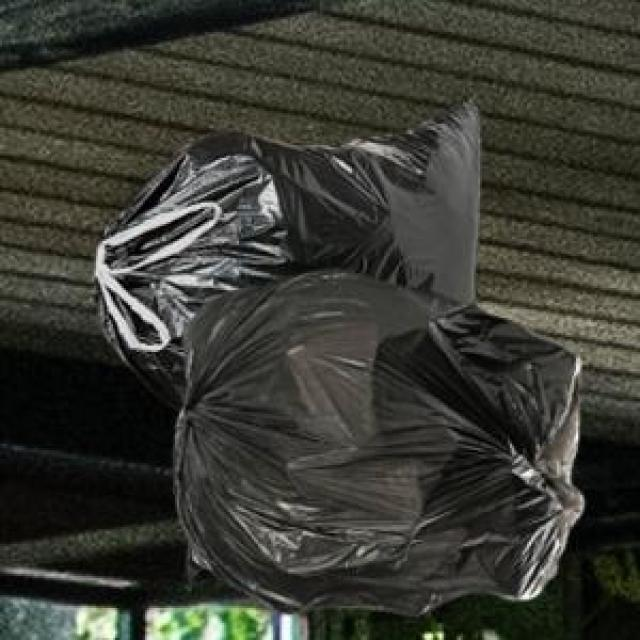waste: (95, 105, 584, 614)
